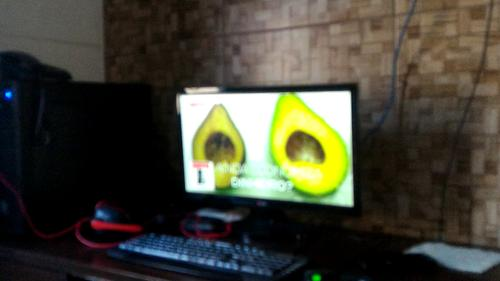Polishop #1: (189, 161, 214, 191)
